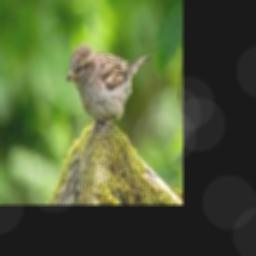Sparrow: (66, 42, 150, 133)
